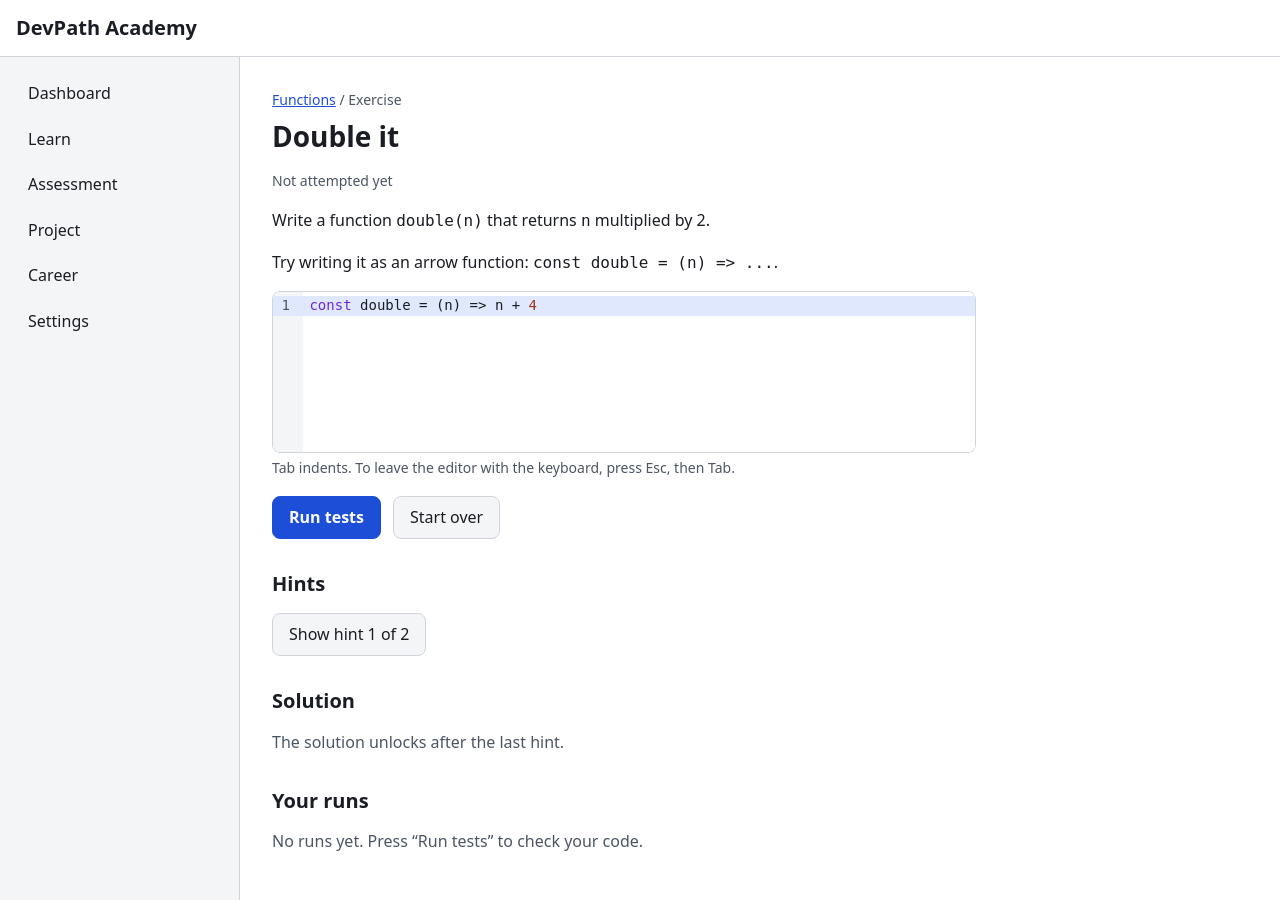
Test: exercise page (/exercises/:exerciseId) › shows which tests failed, and what came back instead
Expected: the field named "Your code" is shown, [303,296,975,316]
What coordinates should you click on to do the following:
click the button "Run tests"
I would click on:
 (326, 517)
Its box is [272,496,381,539].
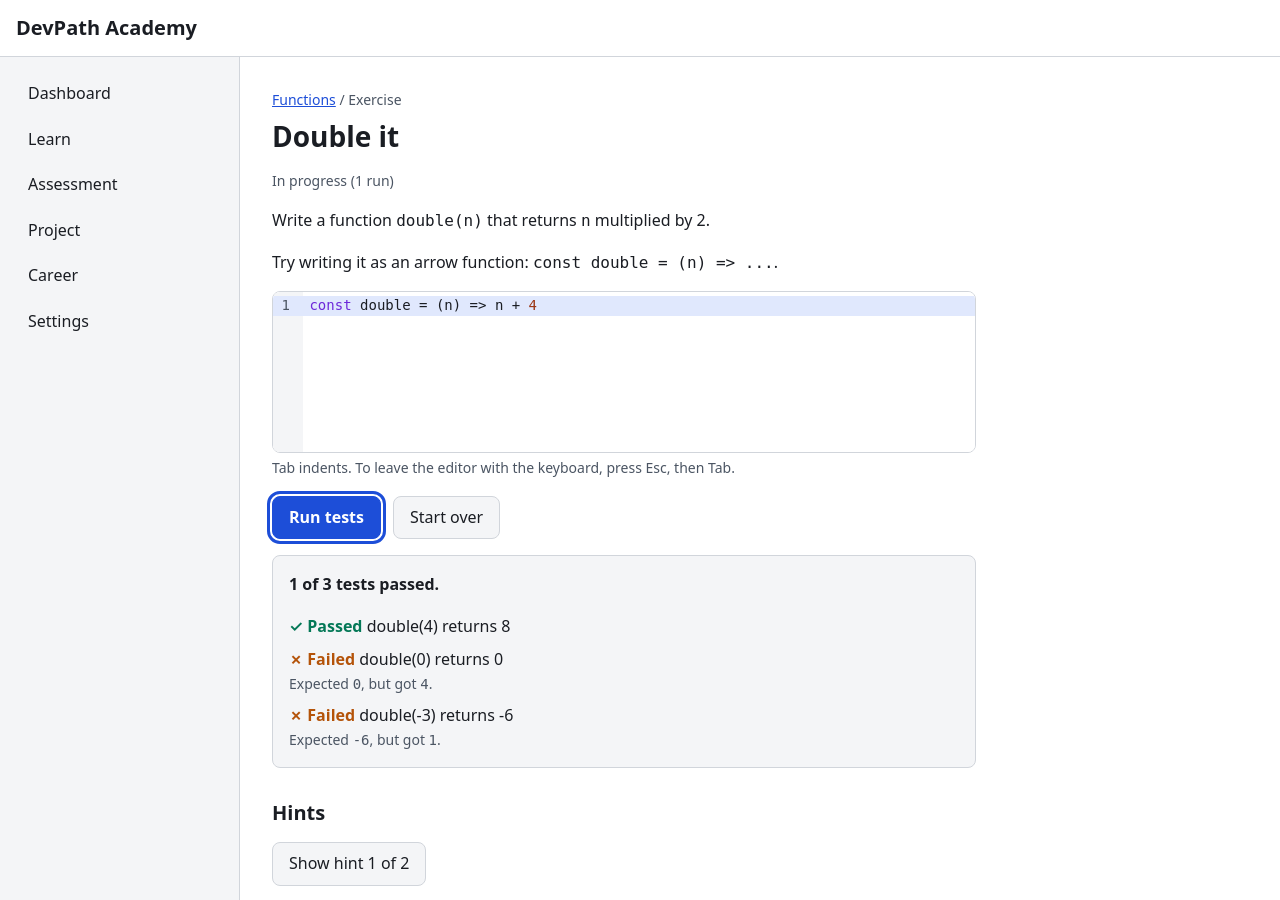
Expected: the text "1 of 3 tests passed." is shown, [289,573,439,595]
Expected: the list item "✓ Passed double(4) returns 8" is shown, [289,615,510,637]
Expected: the list item "✗ Failed double(0) returns 0 Expected 0, but got 4." is shown, [289,648,503,693]
